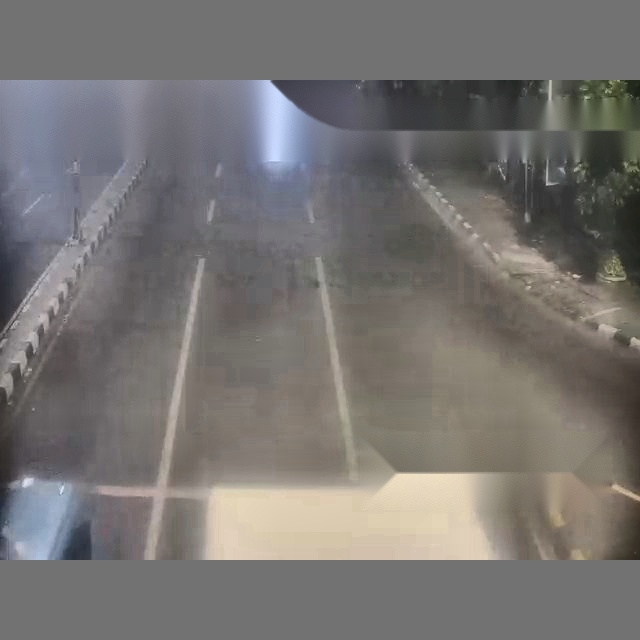Mobil: (2, 476, 91, 558)
